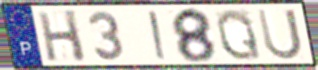3: (86, 8, 125, 62)
8: (169, 6, 220, 64)
H: (35, 8, 89, 63)
I: (146, 9, 170, 61)
Q: (214, 7, 264, 62)
U: (255, 7, 305, 61)
